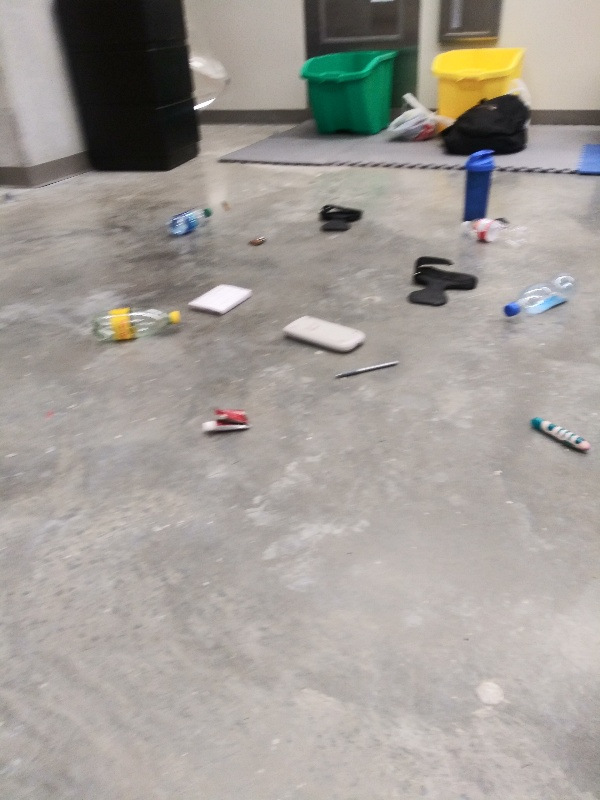bottle: (82, 303, 183, 349), (504, 273, 580, 319), (453, 214, 534, 253), (162, 206, 215, 243)
